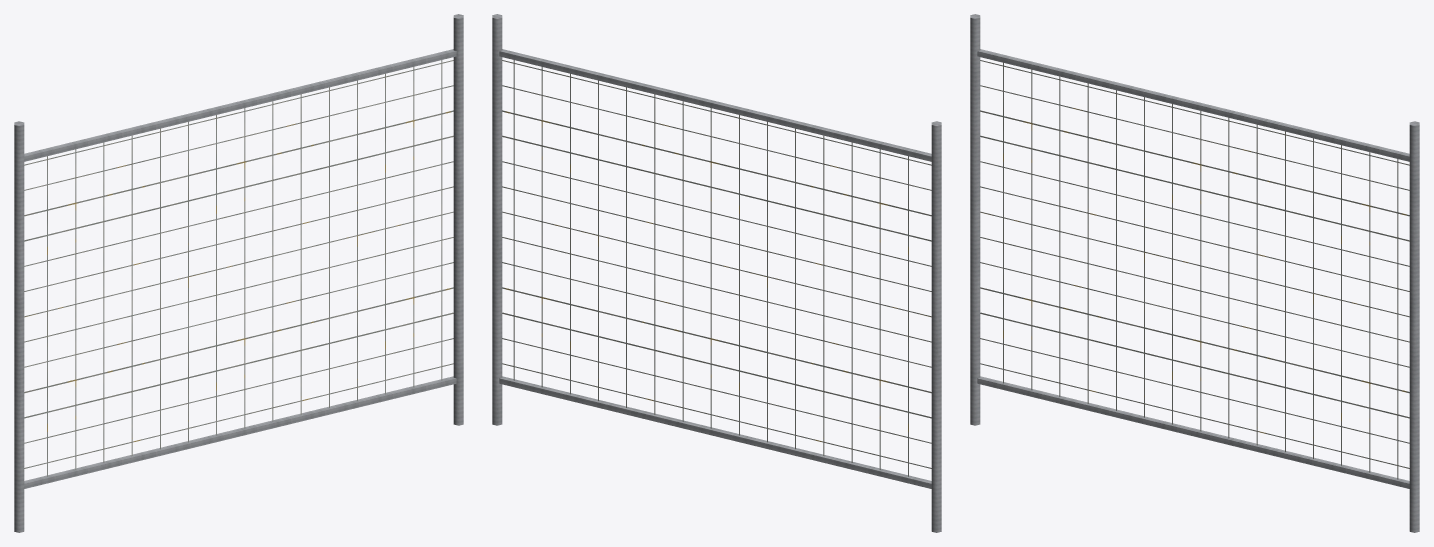
File: fence_steel.glb
The picture shows the model from 3 angles, left to right: view 1: azimuth 30°, elevation 25°; view 2: azimuth 150°, elevation 25°; view 3: azimuth 330°, elevation 25°; orthographic projection.
Parts seen in each view (by area): view 1: FENCE_MESH_PANEL, FENCE_POSTS_PANEL; view 2: FENCE_MESH_PANEL, FENCE_POSTS_PANEL; view 3: FENCE_MESH_PANEL, FENCE_POSTS_PANEL.
Boxes of the visible parts, left/top/right/bottom form: FENCE_MESH_PANEL: left=24, top=60, right=453, bottom=476; FENCE_POSTS_PANEL: left=14, top=14, right=463, bottom=532; FENCE_MESH_PANEL: left=502, top=60, right=931, bottom=476; FENCE_POSTS_PANEL: left=492, top=14, right=941, bottom=532; FENCE_MESH_PANEL: left=980, top=60, right=1409, bottom=479; FENCE_POSTS_PANEL: left=970, top=14, right=1419, bottom=532.
Size of the model in its own units: 2.66 by 2.3 by 0.052.
2 materials, 2 textured.
